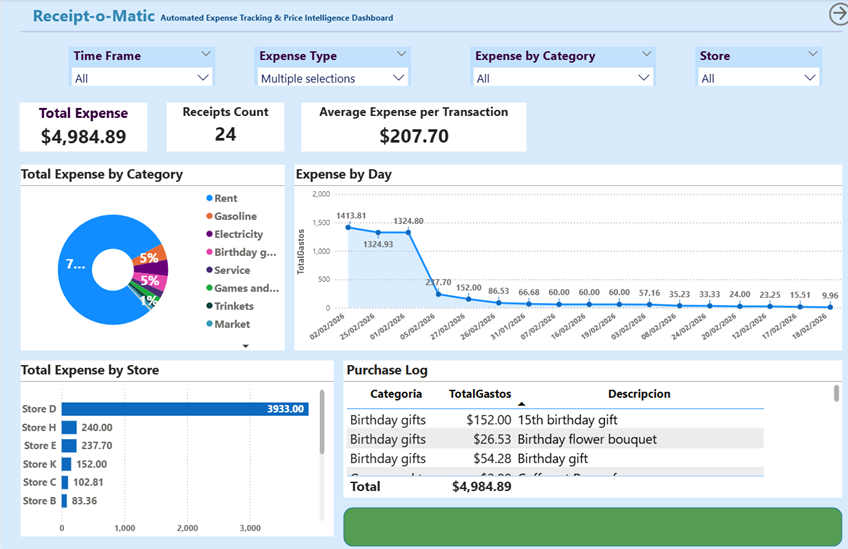

Layout of this report page (visuals, bound fields, positions):
{"tool":"powerbi","page":{"name":"Total Expense","canvas":[1400,900],"ordinal":0},"visuals":[{"type":"slicer","title":"Gasto por Categorias","fields":{"Values":["FactGastos.Categoria"]},"box":[767.5,77.9,304,64],"z":0},{"type":"slicer","title":"Tienda","fields":{"Values":["FactGastos.Tienda"]},"box":[1135.5,77.9,208,64],"z":1000},{"type":"slicer","title":"Periodo de Gasto","fields":{"Values":["Calendario.MesAño"]},"box":[111.5,77.9,240,64],"z":2000},{"type":"slicer","title":"Tipo de Gasto","fields":{"Values":["FactGastos.TipoGasto"]},"box":[415.5,77.9,256,64],"z":3000},{"type":"card","title":"Total Expense","fields":{"Values":["Sum(FactGastos.Monto)"]},"box":[31.7,170,208.3,80],"z":4000},{"type":"card","title":"Receipts Count","fields":{"Values":["FactGastos.NumRecibos"]},"box":[271.3,170,192.9,80.1],"z":5000},{"type":"card","title":"Average Expense per Transaction","fields":{"Values":["FactGastos.PromedioCompra"]},"box":[492,170,367.7,80.1],"z":6000},{"type":"donutChart","title":"Total Expense by Category","fields":{"Category":["FactGastos.Categoria"],"Y":["FactGastos.TotalGastos"]},"box":[32,272,432,304],"z":7000},{"type":"lineChart","title":"Expense by Day","fields":{"Y":["FactGastos1.TotalGastos"],"Category":["FactGastos1.Fecha"]},"box":[481.2,271.2,896.2,303.8],"z":8000},{"type":"tableEx","title":"Purchase Log","fields":{"Values":["FactGastos.Categoria","FactGastos.TotalGastos","FactGastos.Descripcion"]},"box":[560,592,816,224],"z":9000},{"type":"clusteredBarChart","title":"Total Expense by Store","fields":{"Y":["FactGastos.TotalGastos"],"Category":["FactGastos.Tienda"]},"box":[32,592,512,288],"z":10000},{"type":"textbox","box":[46.7,3.3,241.7,45],"z":11000},{"type":"textbox","box":[257.1,16.2,427.8,36],"z":12000},{"type":"shape","box":[32.4,37.8,1344.6,32.4],"z":13000},{"type":"shape","box":[560,832,816,64],"z":14000},{"type":"shape","box":[1355,6,38.1,37.7],"z":15000},{"type":"actionButton","box":[1357,9,36,31.3],"z":16000}]}

Visuals, with their boxes in screenshot pixels (x1, y1, x2, y2), scaled from the page's 1400x900 canvas onto the 848x549 screenshot:
"Gasto por Categorias" slicer: region(465, 48, 649, 87)
"Tienda" slicer: region(688, 48, 814, 87)
"Periodo de Gasto" slicer: region(68, 48, 213, 87)
"Tipo de Gasto" slicer: region(252, 48, 407, 87)
"Total Expense" card: region(19, 104, 145, 152)
"Receipts Count" card: region(164, 104, 281, 153)
"Average Expense per Transaction" card: region(298, 104, 521, 153)
"Total Expense by Category" donutChart: region(19, 166, 281, 351)
"Expense by Day" lineChart: region(291, 165, 834, 351)
"Purchase Log" tableEx: region(339, 361, 833, 498)
"Total Expense by Store" clusteredBarChart: region(19, 361, 330, 537)
textbox: region(28, 2, 175, 29)
textbox: region(156, 10, 415, 32)
shape: region(20, 23, 834, 43)
shape: region(339, 508, 833, 547)
shape: region(821, 4, 844, 27)
actionButton: region(822, 5, 844, 25)
